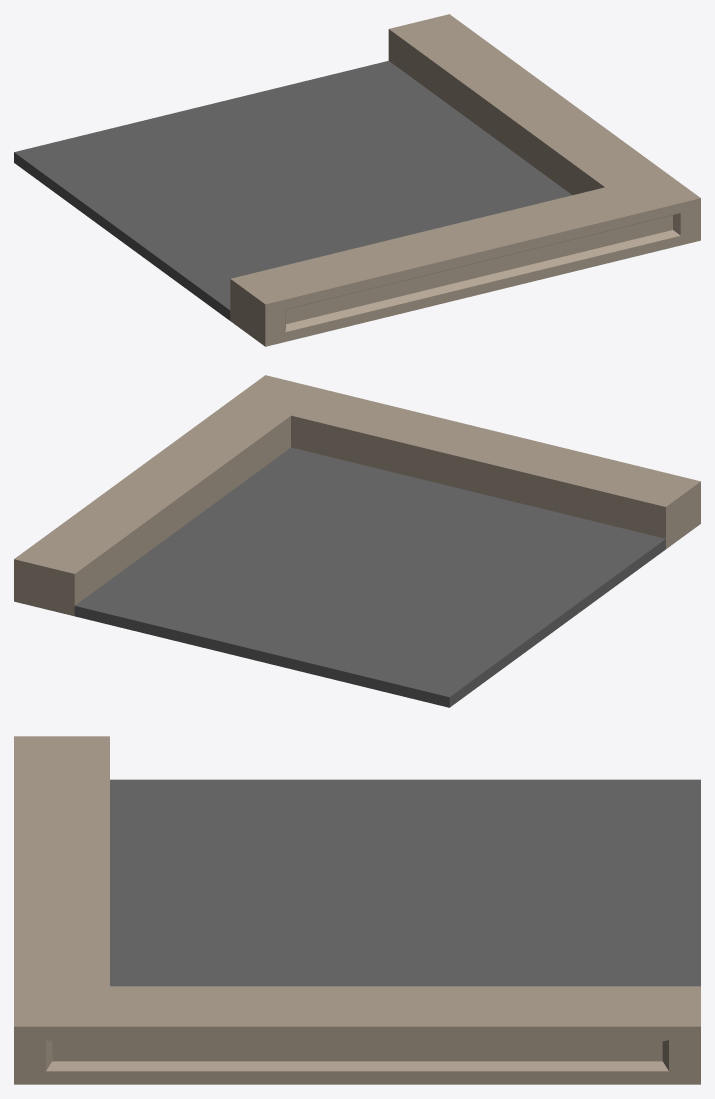
File: roof_4x4_1sided2.fbx
3 views of the same model, one above another, from view 1: azimuth 30°, elevation 25°; view 2: azimuth 150°, elevation 25°; view 3: azimuth 270°, elevation 25° (orthographic). The views are drawn at different scales.
Visible parts, largest first — view 1: Cube; view 2: Cube; view 3: Cube.
Part boxes in pixels (<box>): Cube: <box>14,14,700,346</box>; Cube: <box>14,375,700,707</box>; Cube: <box>14,736,700,1084</box>.
Bounding box in the file's own units: 430 × 40 × 430.
